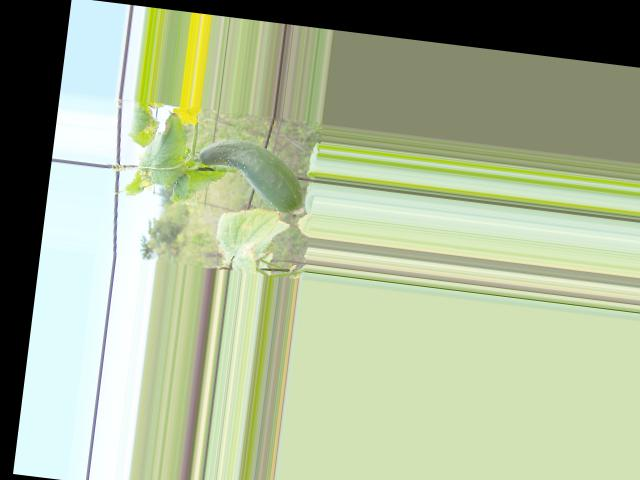cucumber: (191, 135, 308, 215)
